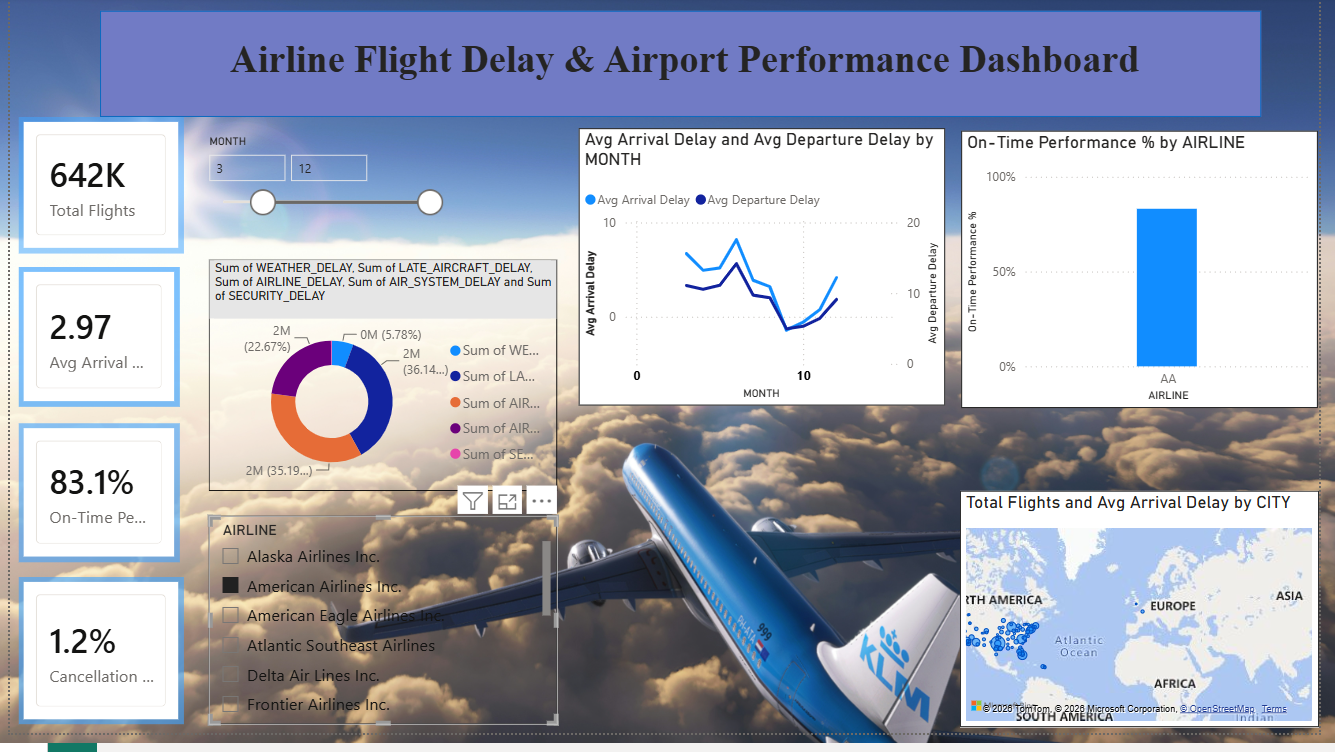

This screenshot's page, from the dashboard's own definition file:
{"tool":"powerbi","page":{"name":"Page 1","canvas":[1280,720],"ordinal":0},"visuals":[{"type":"cardVisual","fields":{"Data":["flights.Total Flights"]},"box":[8.6,117.4,161.4,133.3],"z":0},{"type":"cardVisual","fields":{"Data":["flights.On-Time Performance %"]},"box":[8.6,417,157.7,135.7],"z":1000},{"type":"cardVisual","fields":{"Data":["flights.Avg Arrival Delay"]},"box":[8.6,264.1,157.7,137],"z":2000},{"type":"cardVisual","fields":{"Data":["flights.Cancellation Rate %"]},"box":[8.6,567.4,161.4,144.3],"z":3000},{"type":"columnChart","fields":{"Category":["flights.AIRLINE"],"Y":["flights.On-Time Performance %"]},"box":[930.4,130.4,348.5,271.5],"z":4000},{"type":"map","fields":{"Category":["airports.CITY"],"Size":["flights.Total Flights"]},"box":[929.1,483.5,351,231.1],"z":5000},{"type":"shape","box":[88,13.5,1136,103.9],"z":6000},{"type":"textbox","box":[210.3,34.2,968.5,72.1],"z":7000},{"type":"slicer","fields":{"Values":["airlines.AIRLINE"]},"box":[194.9,507.6,340.5,203.8],"z":8000},{"type":"slicer","fields":{"Values":["flights.MONTH"]},"box":[182.2,129.6,249.5,111.3],"z":9000},{"type":"lineChart","fields":{"Y":["flights.Avg Arrival Delay"],"Y2":["flights.Avg Departure Delay"],"Category":["flights.MONTH"]},"box":[557,127.8,358.3,271.5],"z":10000},{"type":"donutChart","fields":{"Y":["Sum(flights.WEATHER_DELAY)","Sum(flights.LATE_AIRCRAFT_DELAY)","Sum(flights.AIRLINE_DELAY)","Sum(flights.AIR_SYSTEM_DELAY)","Sum(flights.SECURITY_DELAY)"]},"box":[194.9,257,340.5,226.6],"z":11000}]}

Visuals, with their boxes in screenshot pixels (x1, y1, x2, y2), scaled from the page's 1280x720 canvas onto the 1335x752 screenshot:
cardVisual - flights.Total Flights: box=[9, 123, 177, 262]
cardVisual - flights.On-Time Performance %: box=[9, 436, 173, 577]
cardVisual - flights.Avg Arrival Delay: box=[9, 276, 173, 419]
cardVisual - flights.Cancellation Rate %: box=[9, 593, 177, 743]
columnChart - flights.AIRLINE x flights.On-Time Performance %: box=[970, 136, 1334, 420]
map - airports.CITY x flights.Total Flights: box=[969, 505, 1334, 746]
shape: box=[92, 14, 1277, 123]
textbox: box=[219, 36, 1229, 111]
slicer - airlines.AIRLINE: box=[203, 530, 558, 743]
slicer - flights.MONTH: box=[190, 135, 450, 252]
lineChart - flights.Avg Arrival Delay x flights.Avg Departure Delay: box=[581, 133, 955, 417]
donutChart - Sum(flights.WEATHER_DELAY) x Sum(flights.LATE_AIRCRAFT_DELAY): box=[203, 268, 558, 505]
